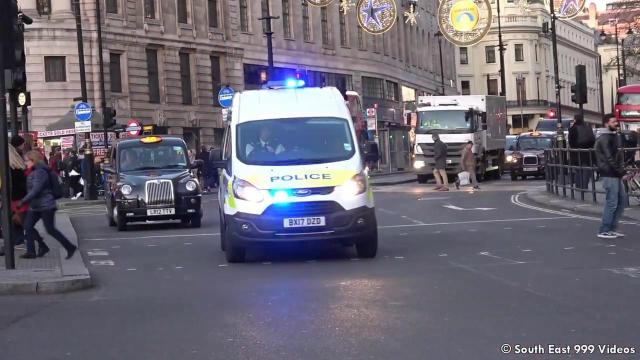police_car: (222, 77, 376, 260)
